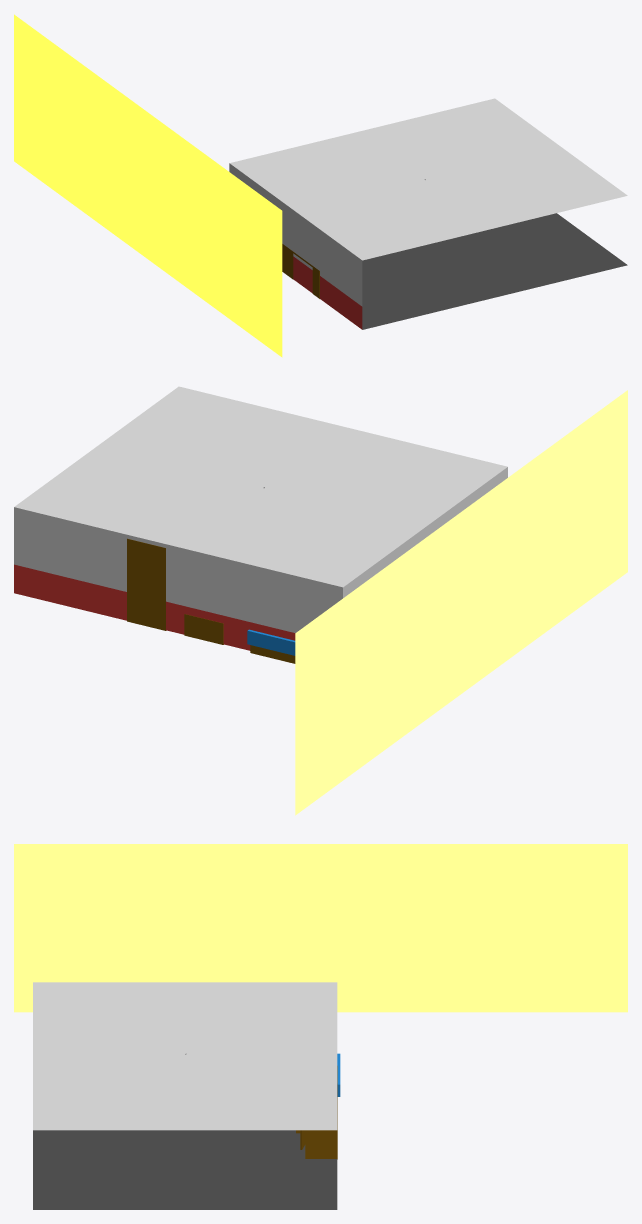
File: MainMenuScreen.fbx
3 renders of one model, top to bottom at view 1: azimuth 30°, elevation 25°; view 2: azimuth 150°, elevation 25°; view 3: azimuth 270°, elevation 25°, orthographic. The views are drawn at different scales.
Visible parts, largest first — view 1: Cube, Plane, Desk; view 2: Cube, Plane, Wardrobe, Bed, Chest; view 3: Plane, Cube, Wardrobe.
Boxes of the visible parts, box(x1,y1,x2,y2) form: Cube: box(229, 98, 627, 329); Plane: box(14, 14, 282, 357); Desk: box(282, 244, 319, 298); Cube: box(14, 386, 507, 650); Plane: box(295, 390, 627, 815); Wardrobe: box(127, 538, 166, 630); Bed: box(247, 629, 295, 663); Chest: box(184, 614, 223, 644); Plane: box(14, 844, 627, 1012); Cube: box(33, 982, 337, 1209); Wardrobe: box(300, 1066, 337, 1159).
Bounding box in the file's own units: 1680 × 674 × 2205.
